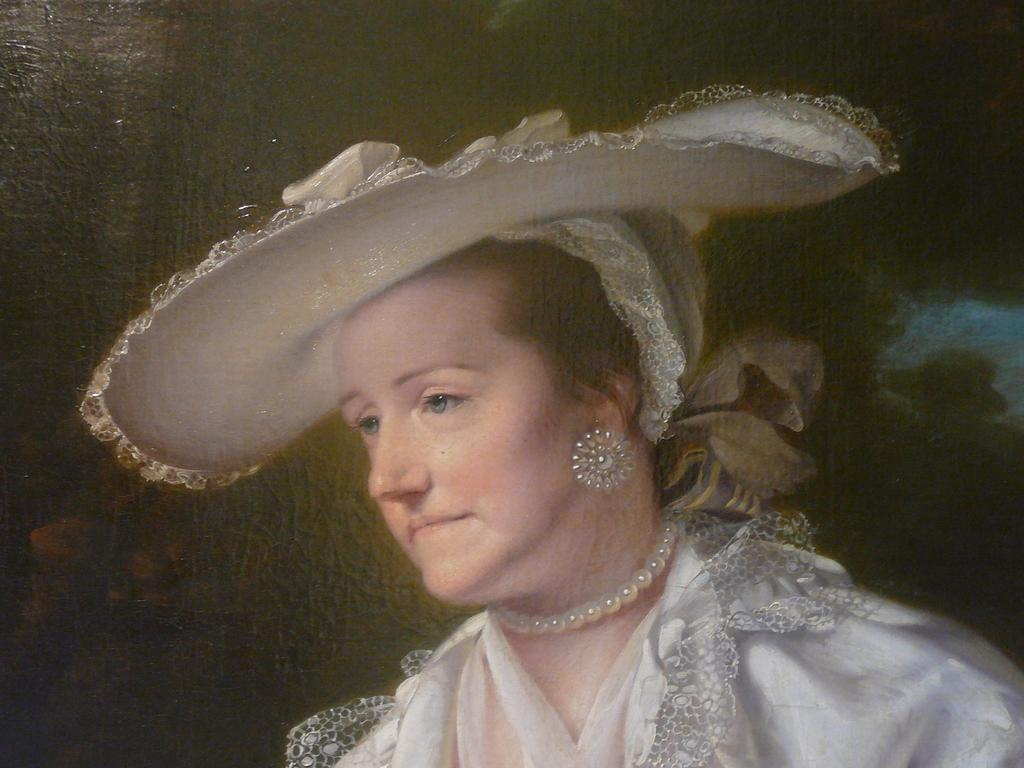Hat: (76, 0, 896, 488)
